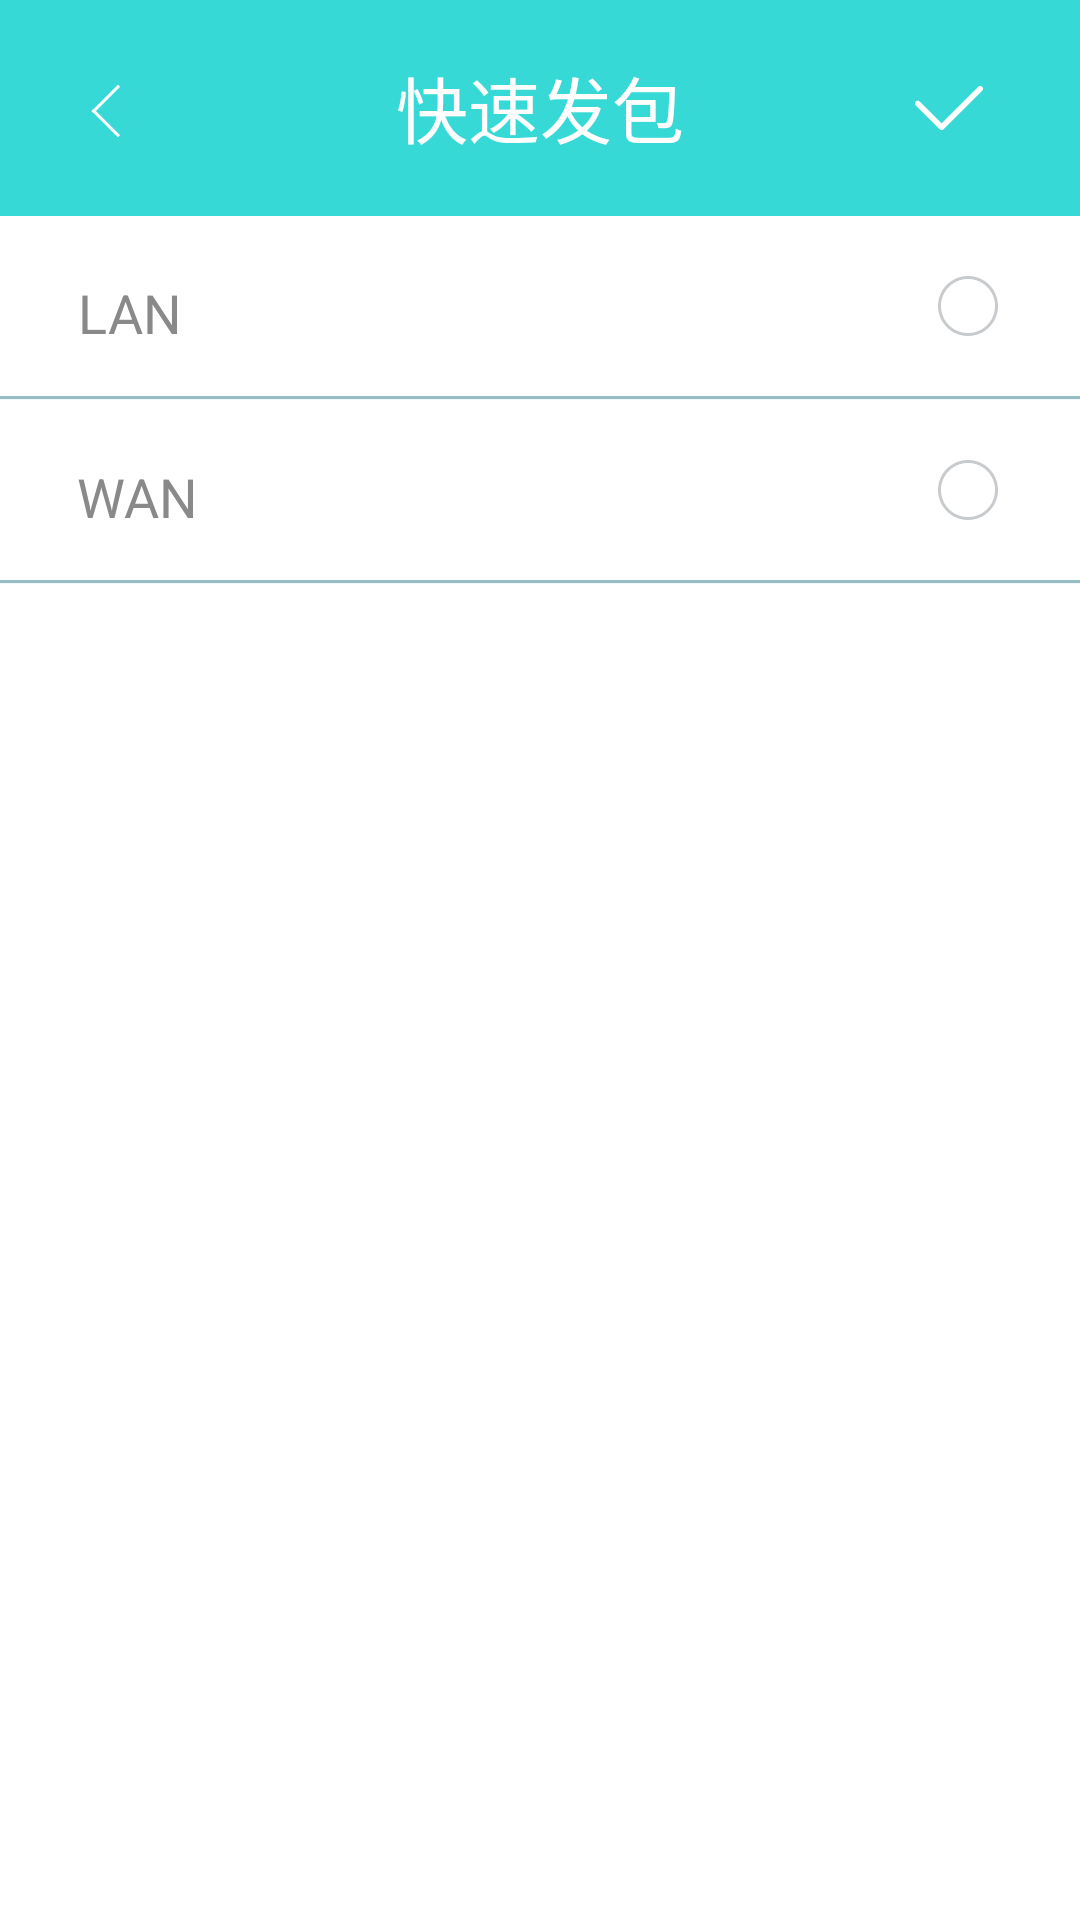

Where to tap for icons on this 1080 x 1920 app screen, as (x=x, y=y):
return: (x=105, y=111)
shop checkbox select: (x=968, y=306), (x=968, y=490)
sure: (x=949, y=108)
